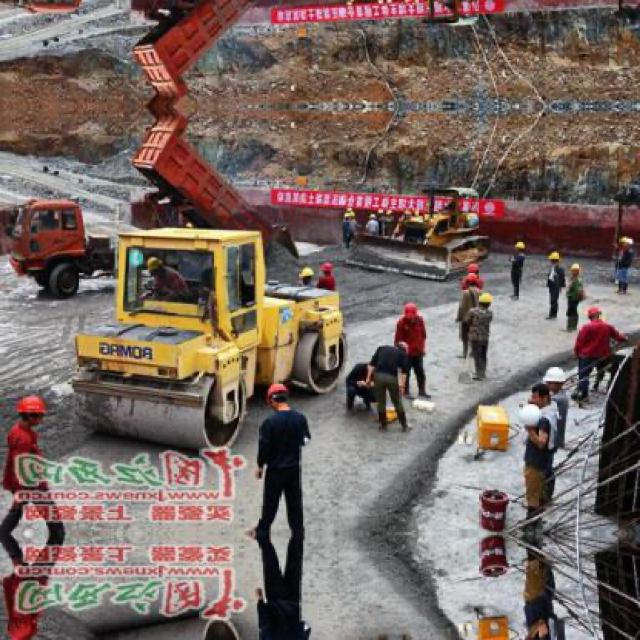con casco: (19, 388, 74, 444), (246, 380, 305, 422), (382, 303, 426, 332), (479, 298, 495, 326), (470, 265, 482, 280)
